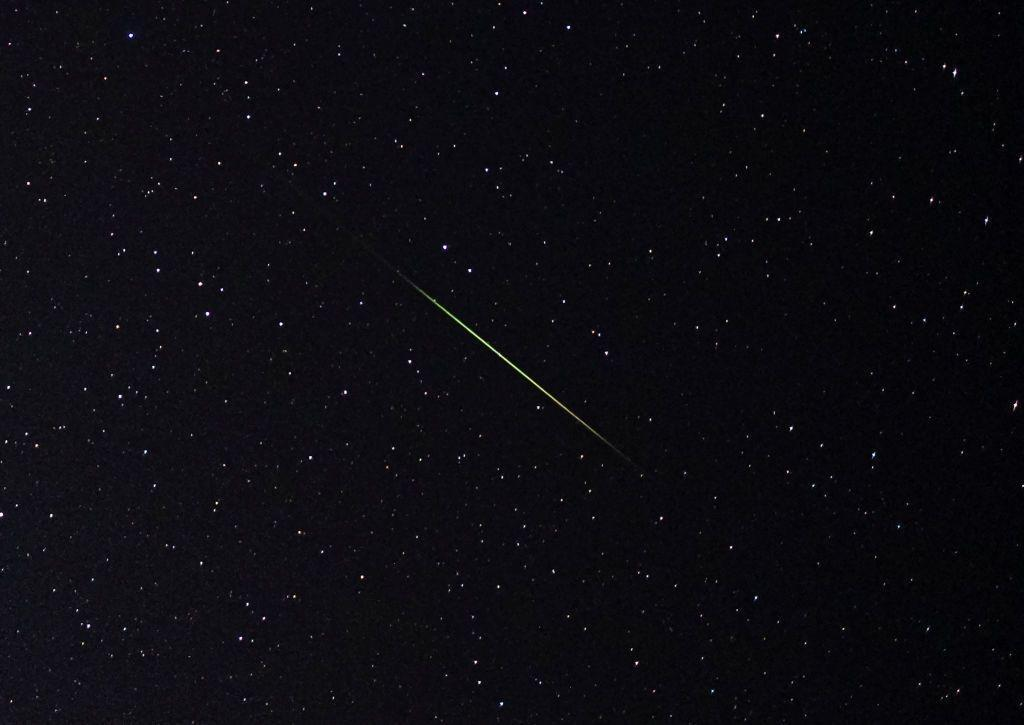meteorite: (418, 273, 684, 504)
